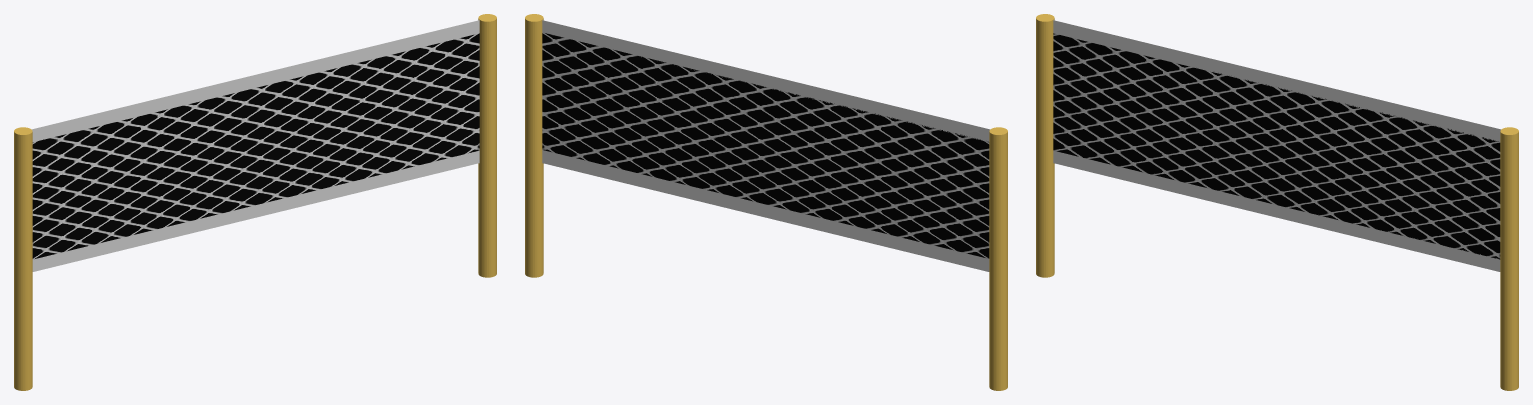
File: VolleyBallNet.fbx
3 renders of one model, left to right at view 1: azimuth 30°, elevation 25°; view 2: azimuth 150°, elevation 25°; view 3: azimuth 330°, elevation 25°, orthographic.
Parts seen in each view (by area): view 1: 立方体.002, 立方体, 立方体.001, 円柱, 円柱.001; view 2: 立方体.002, 立方体.001, 立方体, 円柱, 円柱.001; view 3: 立方体.002, 立方体, 立方体.001, 円柱.001, 円柱.
Part boxes in pixels (box(x1,y1,x2,y2)): 立方体.002: box(32, 33, 479, 259); 立方体: box(32, 20, 479, 142); 立方体.001: box(32, 150, 479, 271); 円柱: box(14, 127, 32, 390); 円柱.001: box(478, 14, 496, 277); 立方体.002: box(542, 32, 989, 258); 立方体.001: box(542, 150, 989, 271); 立方体: box(542, 20, 989, 142); 円柱: box(989, 127, 1007, 390); 円柱.001: box(525, 14, 543, 277); 立方体.002: box(1053, 33, 1500, 259); 立方体: box(1053, 20, 1500, 141); 立方体.001: box(1053, 150, 1500, 271); 円柱.001: box(1500, 127, 1518, 390); 円柱: box(1036, 14, 1054, 277).
Size of the model in its own units: 828 by 421 by 27.55.
